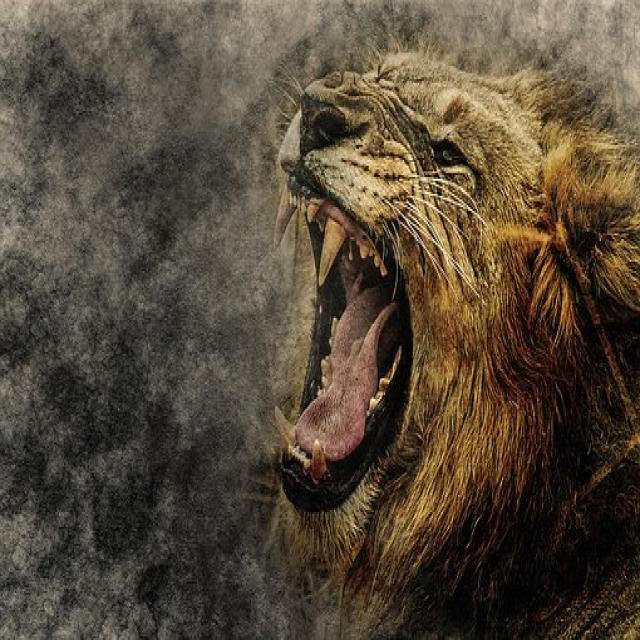Lion: (260, 27, 639, 638)
